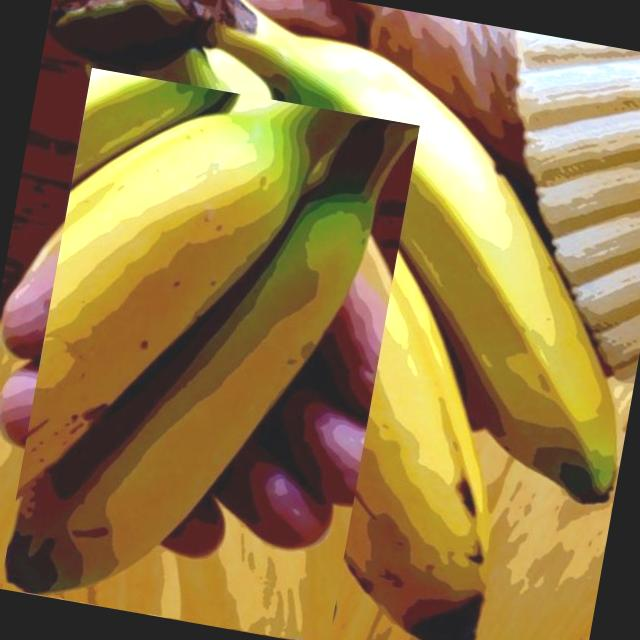Banana: (73, 0, 640, 640), (0, 67, 419, 640)
